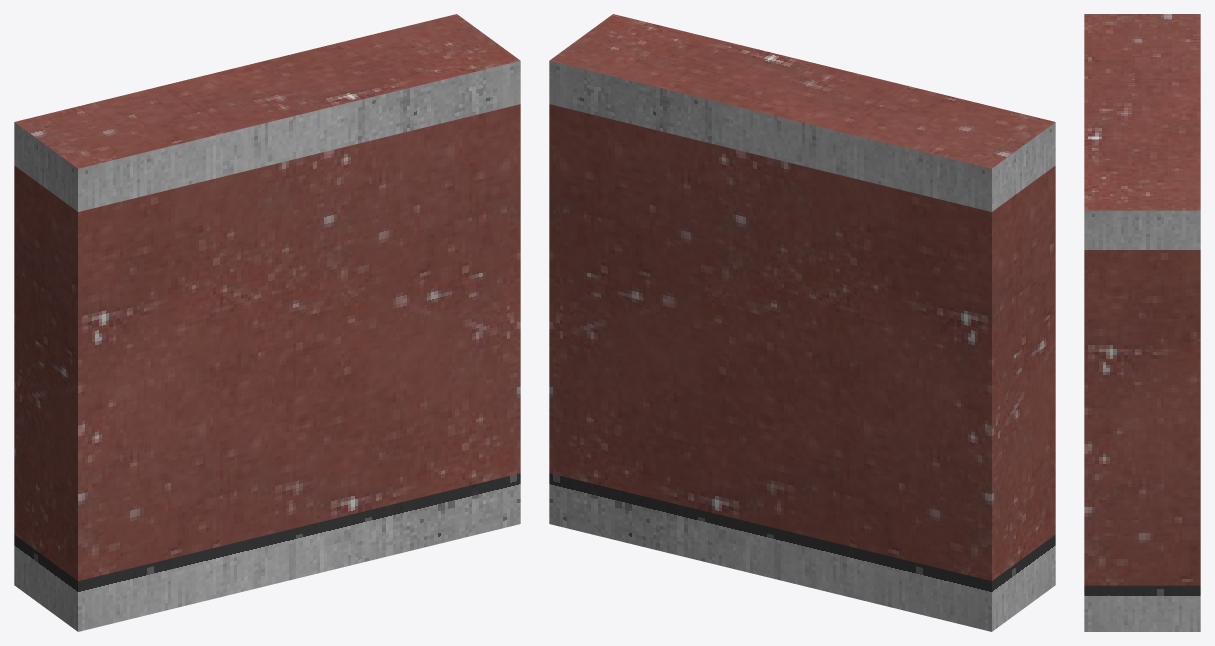
Rendered from wall01.glb.
3 renders of one model, left to right at view 1: azimuth 30°, elevation 25°; view 2: azimuth 150°, elevation 25°; view 3: azimuth 270°, elevation 25°, orthographic. The views are drawn at different scales.
Visible parts, largest first — view 1: Cube; view 2: Cube; view 3: Cube.
Part boxes in pixels (<box>): Cube: <box>14,14,520,631</box>; Cube: <box>549,14,1055,631</box>; Cube: <box>1084,14,1200,631</box>.
Size of the model in its own units: 4 by 4 by 1.
Materials: 1 (1 with a texture image).
